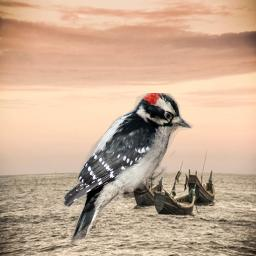Woodpecker: (63, 93, 196, 245)
